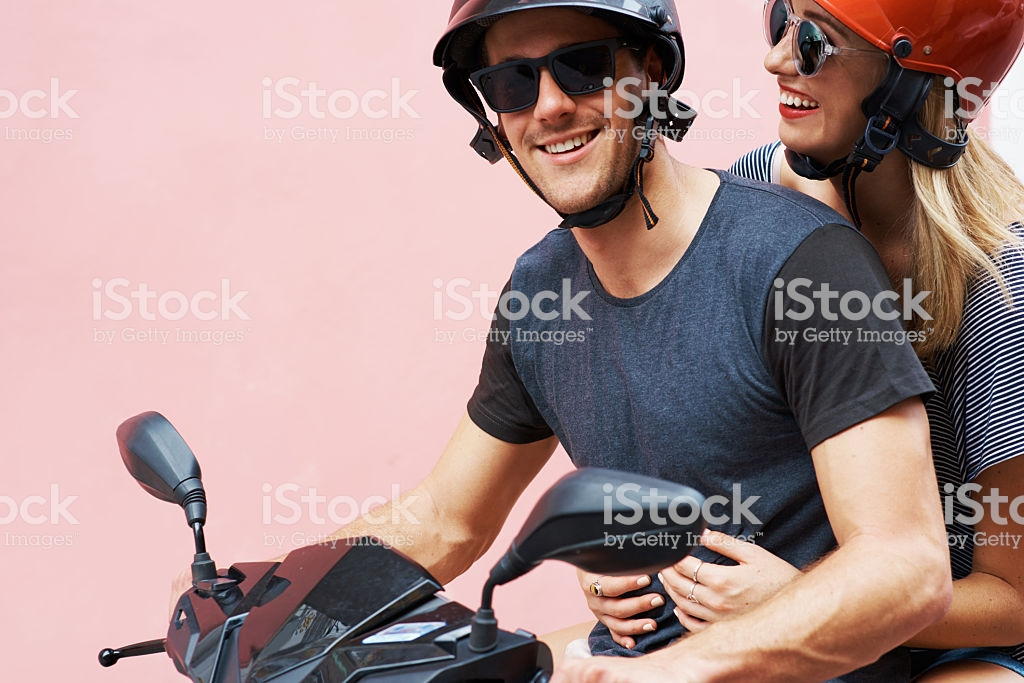helmet: (832, 4, 1024, 89), (432, 3, 694, 59)
